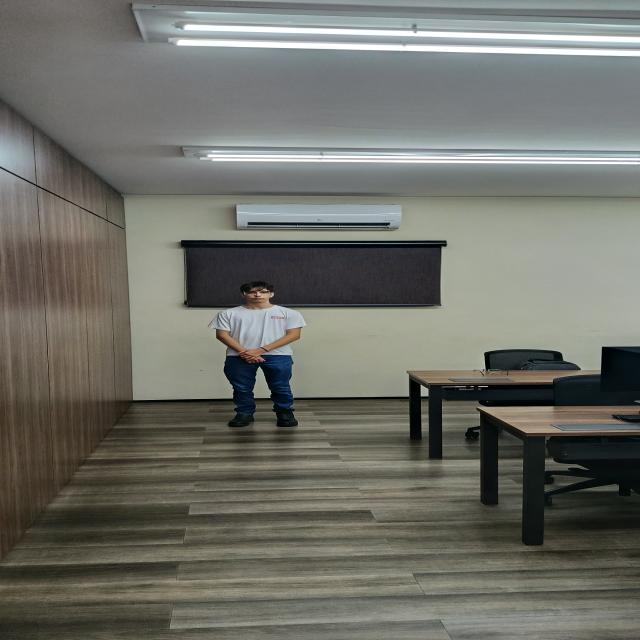oculos-epi: (244, 291, 273, 296)
